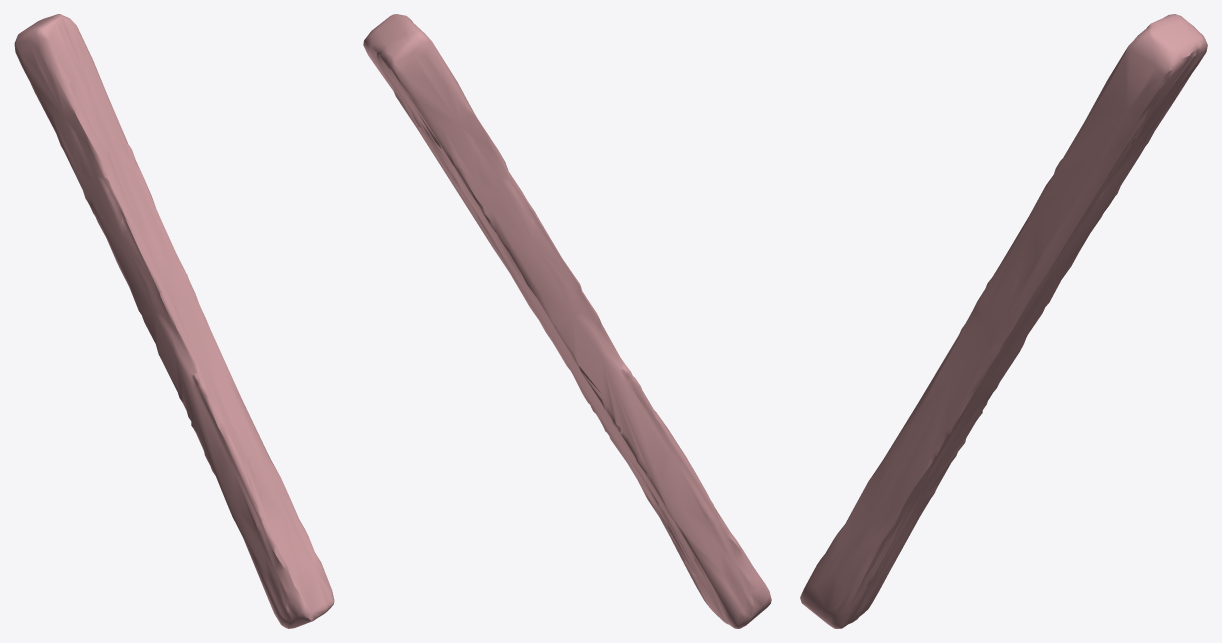
Rendered from fma55619_fj2756.glb.
The picture shows the model from 3 angles, left to right: view 1: azimuth 90°, elevation 25°; view 2: azimuth 150°, elevation 25°; view 3: azimuth 270°, elevation 25°; orthographic projection. The views are drawn at different scales.
Visible parts, largest first — view 1: FMA55619_FJ2756; view 2: FMA55619_FJ2756; view 3: FMA55619_FJ2756.
Part boxes in pixels (x1,y1,x2,y2): FMA55619_FJ2756: (14,14,334,628); FMA55619_FJ2756: (363,14,771,628); FMA55619_FJ2756: (800,14,1207,628).
Size of the model in its own units: 0.00834 by 0.022 by 0.0118.
